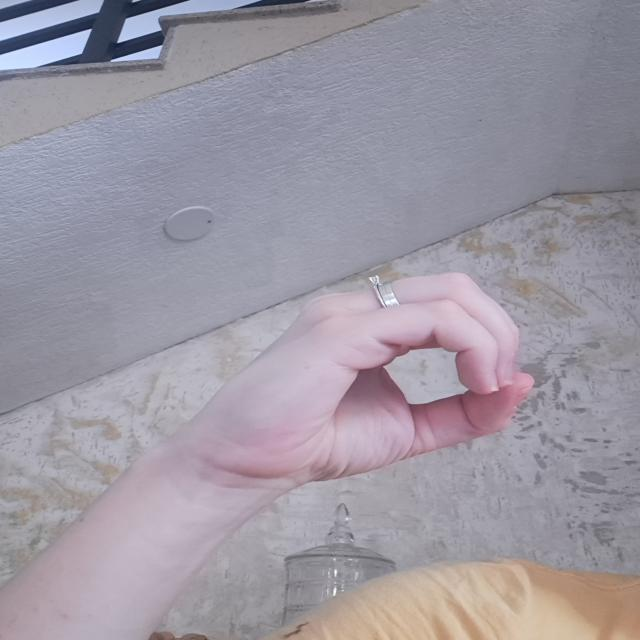O: (191, 265, 549, 486)
